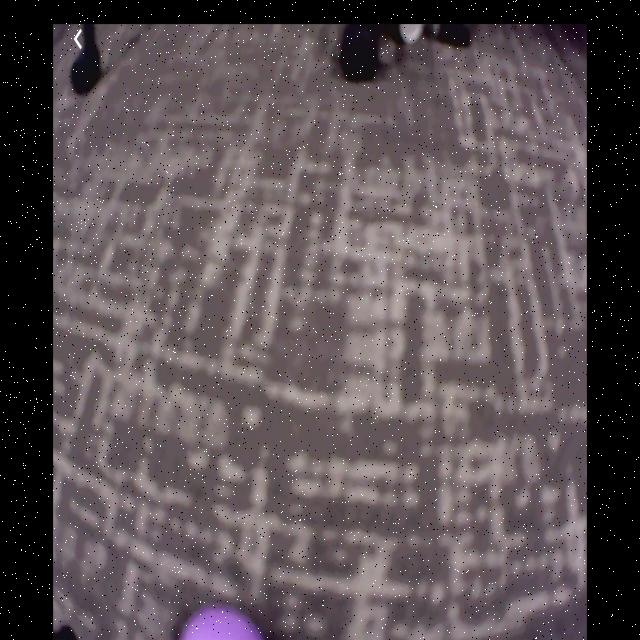ball: (180, 607, 269, 640)
